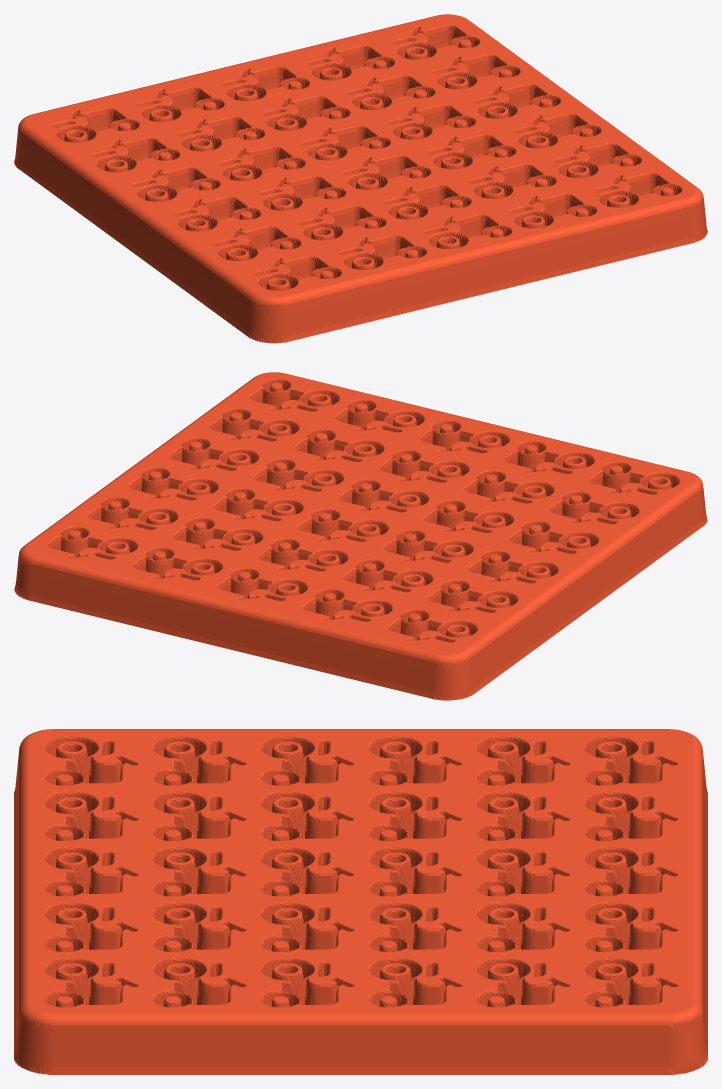
Rendered from mold.glb.
3 views of the same model, one above another, from view 1: azimuth 30°, elevation 25°; view 2: azimuth 150°, elevation 25°; view 3: azimuth 270°, elevation 25° (orthographic). The views are drawn at different scales.
Parts seen in each view (by area): view 1: geometry_0; view 2: geometry_0; view 3: geometry_0.
Boxes of the visible parts, <box> form: geometry_0: <box>14,14,707,343</box>; geometry_0: <box>14,372,707,700</box>; geometry_0: <box>14,729,707,1074</box>.
Size of the model in its own units: 0.1581 by 0.0136 by 0.1563.
